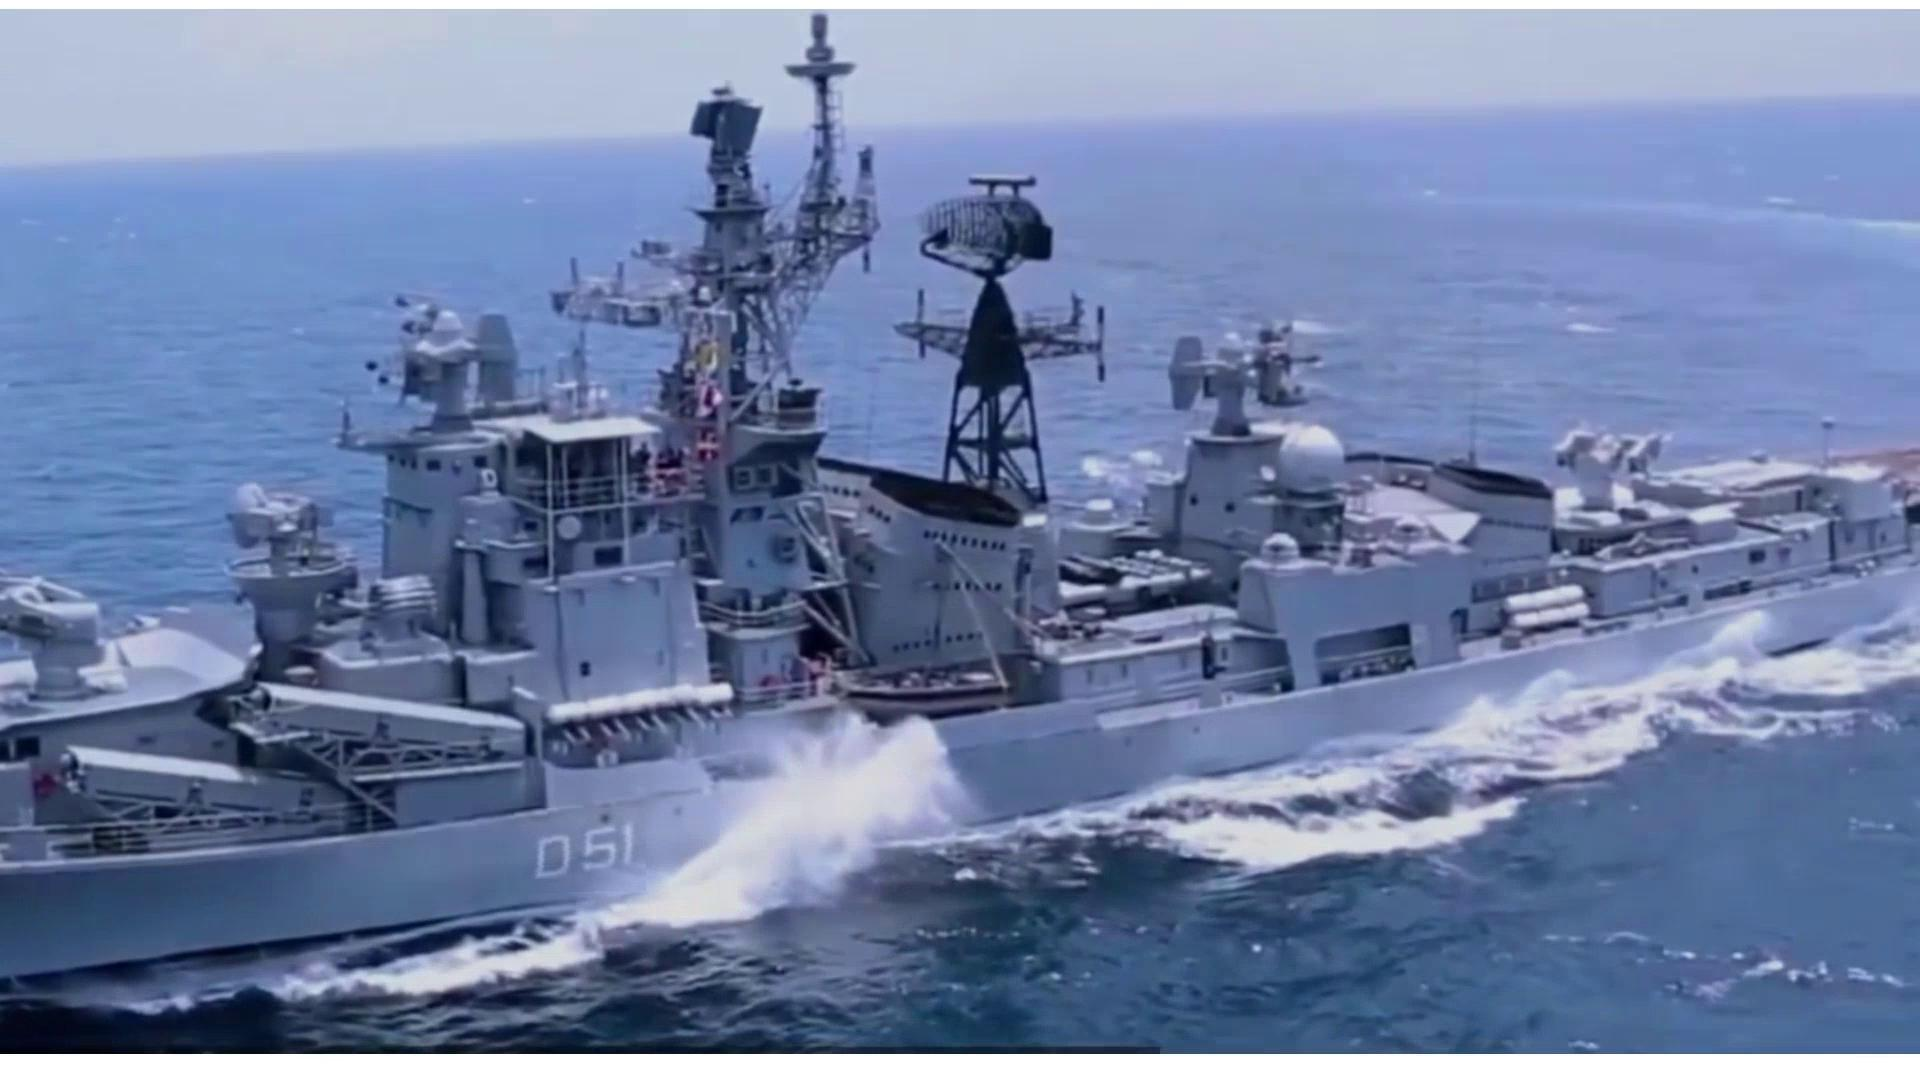OCR: (496, 808, 646, 894)
